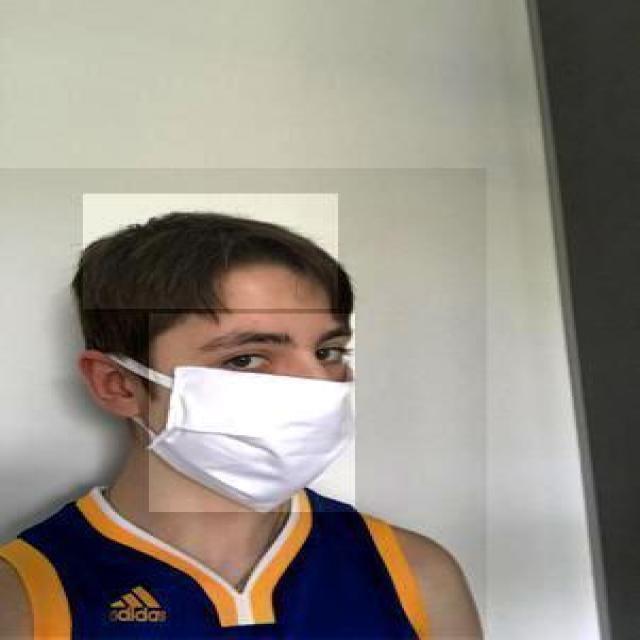face_mask: (149, 314, 357, 514)
head_nohelmet: (83, 194, 338, 308)
person: (0, 168, 489, 638)
